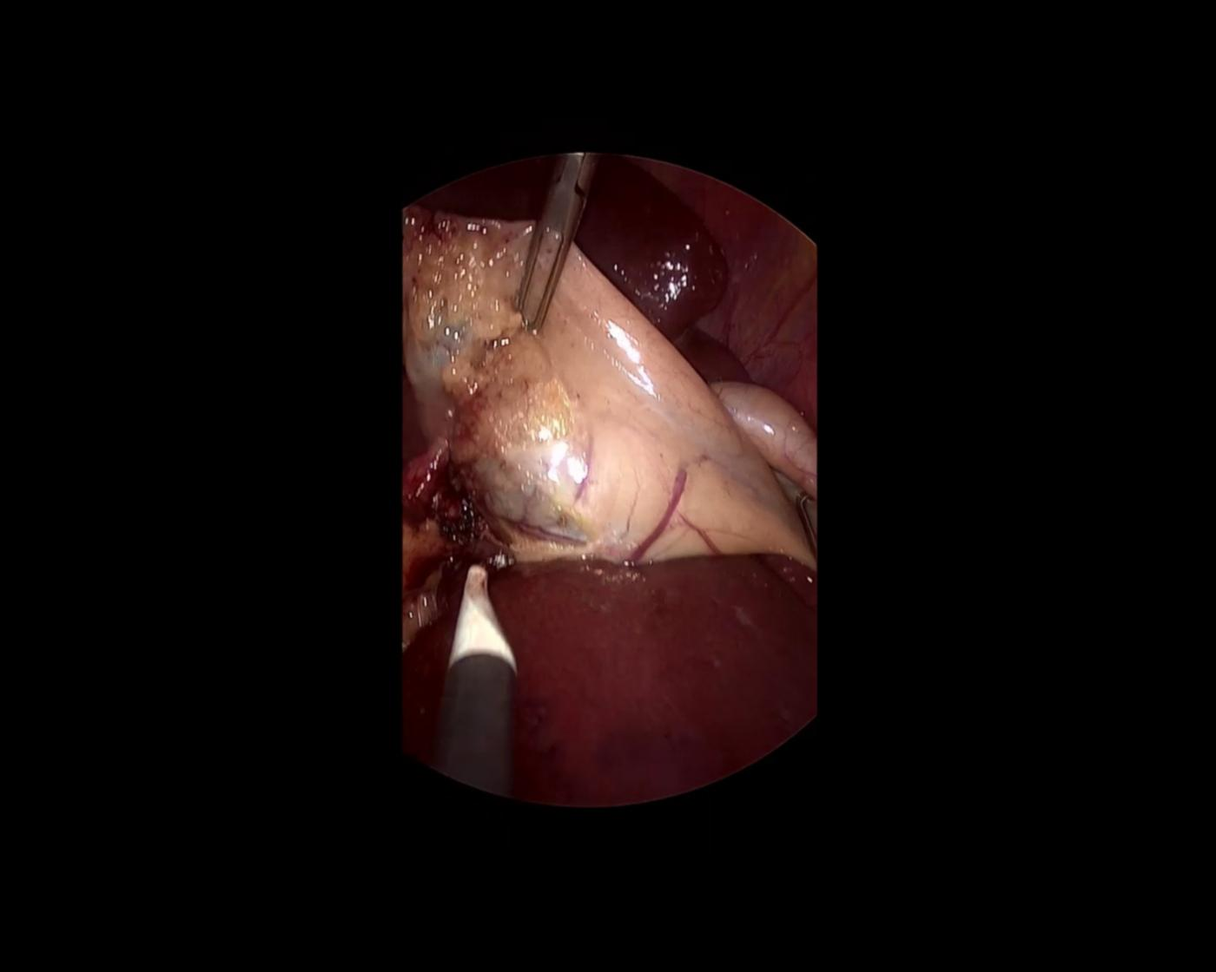Cautery: (429, 546, 523, 793)
Forceps: (504, 145, 594, 337)
Gallbladder: (404, 217, 827, 570)
Liver: (484, 537, 835, 815), (546, 139, 804, 405)
